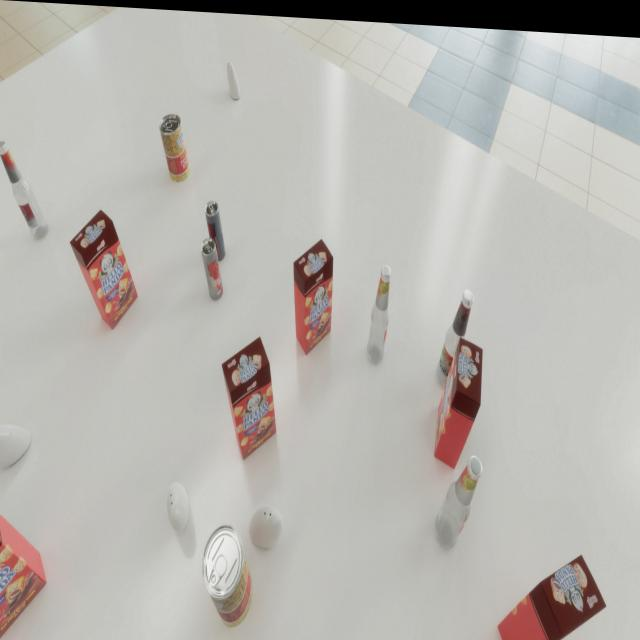Bottle: (0, 140, 48, 238), (435, 448, 482, 546), (436, 283, 474, 385), (367, 259, 391, 360)
HelloPanda: (498, 543, 606, 640), (69, 207, 138, 330), (222, 332, 276, 459), (434, 330, 483, 464), (294, 233, 334, 353)
Potato_sticks: (202, 521, 252, 625), (159, 111, 190, 180)
Rita_zero_sugar: (201, 235, 223, 298), (204, 198, 226, 259)
Salt: (249, 501, 283, 545), (0, 424, 30, 468), (166, 480, 188, 532), (227, 59, 240, 97)
